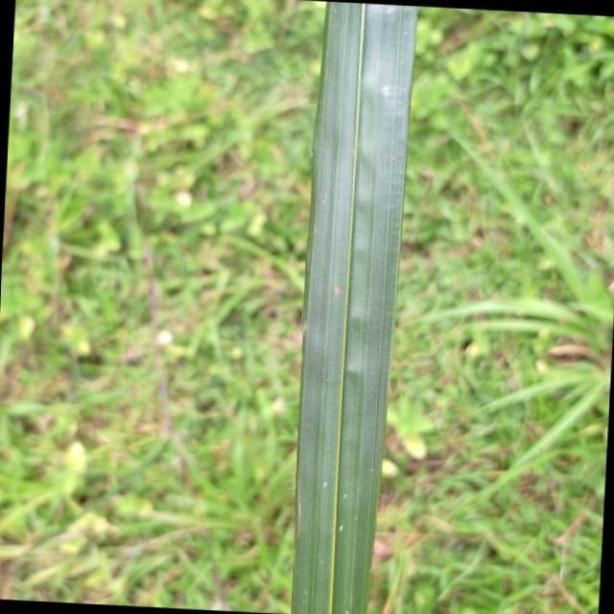Boron: (294, 0, 419, 614)
